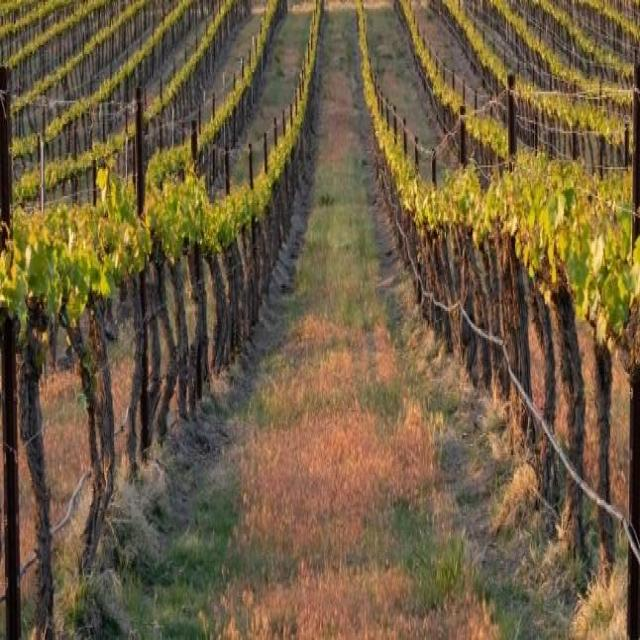row: (88, 4, 565, 640), (182, 2, 311, 199), (368, 0, 465, 177)
